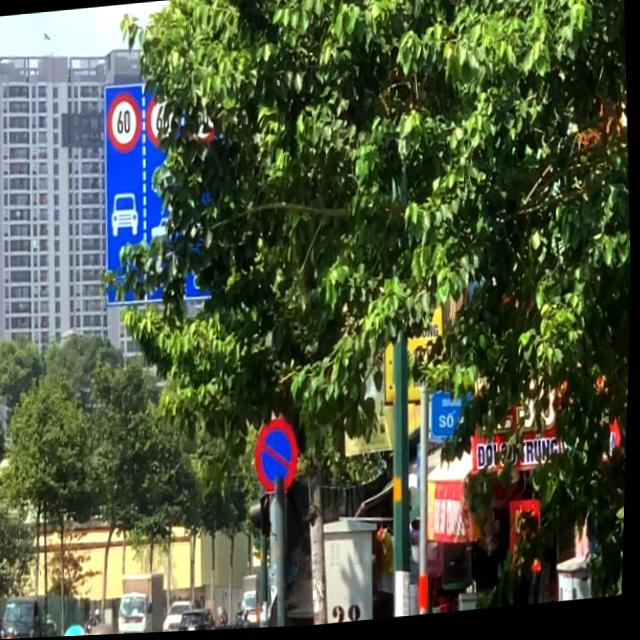Cam do xe: (255, 419, 304, 498)
Toc do toi da cho phep: (105, 92, 145, 157)
